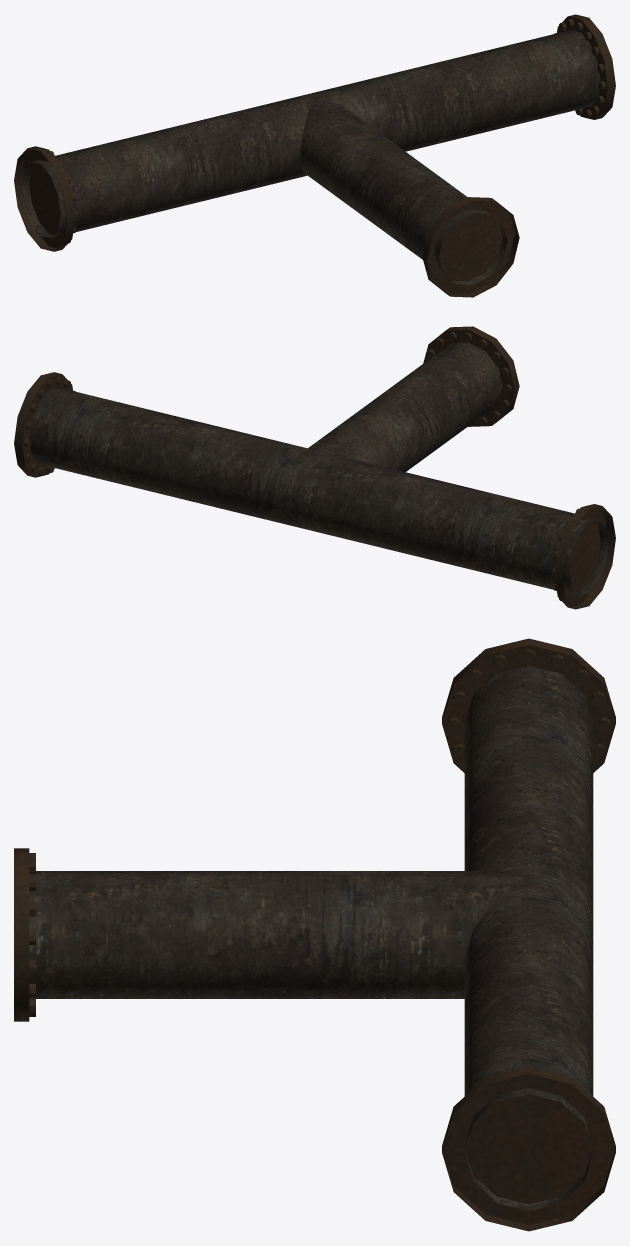
The model's file is pipe_bx_4.obj.
The picture shows the model from 3 angles, top to bottom: view 1: azimuth 30°, elevation 25°; view 2: azimuth 150°, elevation 25°; view 3: azimuth 270°, elevation 25°; orthographic projection. The views are drawn at different scales.
Visible parts, largest first — view 1: pipe_bx_4; view 2: pipe_bx_4; view 3: pipe_bx_4.
Part boxes in pixels (<box>): pipe_bx_4: <box>14,14,615,297</box>; pipe_bx_4: <box>14,326,615,609</box>; pipe_bx_4: <box>14,638,615,1231</box>.
Bounding box in the file's own units: 4 × 0.676 × 2.34.
